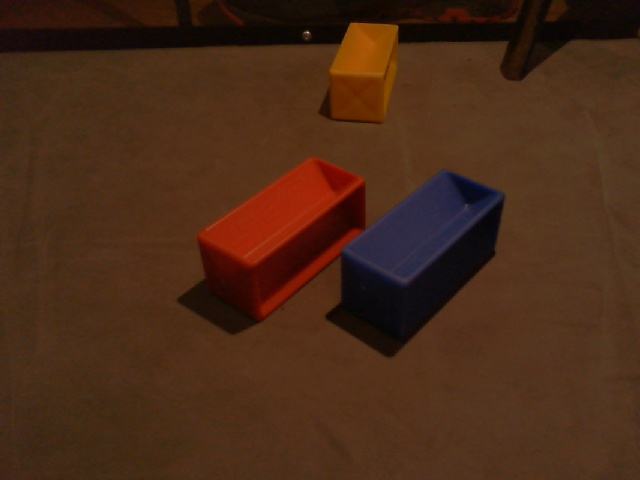BlueSample: (338, 165, 508, 341)
RedSample: (195, 156, 368, 325)
YellowSample: (326, 21, 402, 128)
